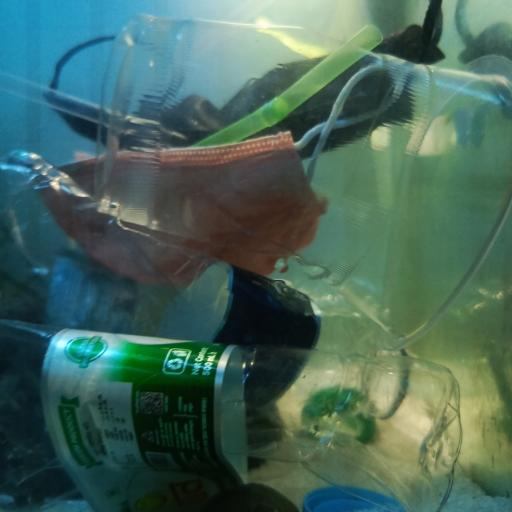bottle_cap: (298, 384, 378, 444), (303, 481, 406, 512)
mask: (32, 59, 400, 296), (47, 0, 446, 155)
plastic_bottle: (4, 146, 424, 422), (0, 318, 464, 512)
plastic_cup: (97, 12, 512, 350)
plastic_straw: (184, 26, 387, 146), (0, 69, 187, 144)
